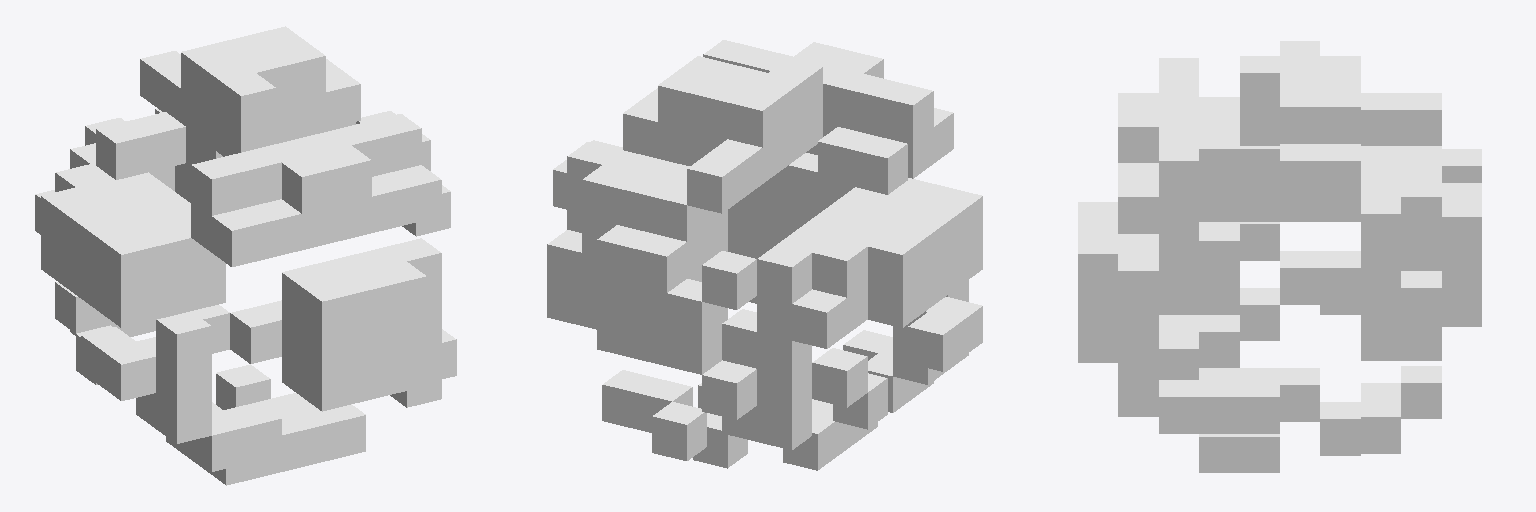
The model's file is luz-8a.obj.
3 renders of one model, left to right at view 1: azimuth 30°, elevation 25°; view 2: azimuth 150°, elevation 25°; view 3: azimuth 270°, elevation 25°, orthographic.
Visible parts, largest first — view 1: object 1; view 2: object 1; view 3: object 1.
Boxes of the visible parts, x1,y1,x2,y2 form: object 1: [35, 26, 456, 485]; object 1: [547, 40, 982, 470]; object 1: [1078, 41, 1481, 472].
Bounding box in the file's own units: 1 × 1 × 1.